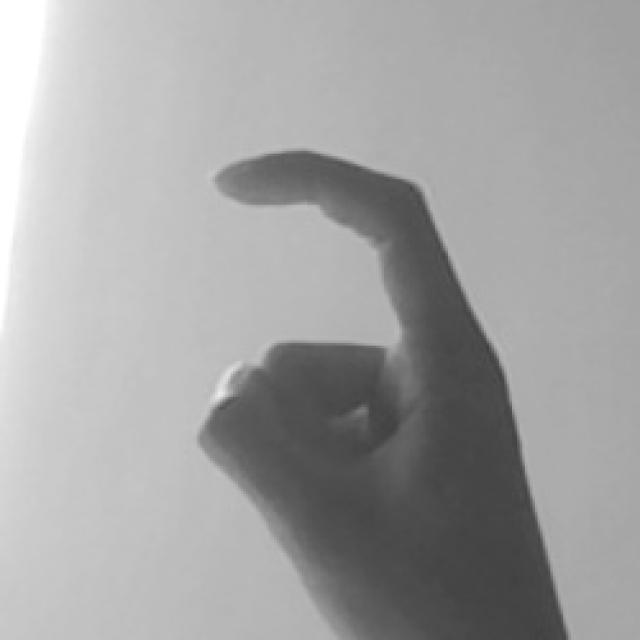X: (184, 135, 570, 640)
